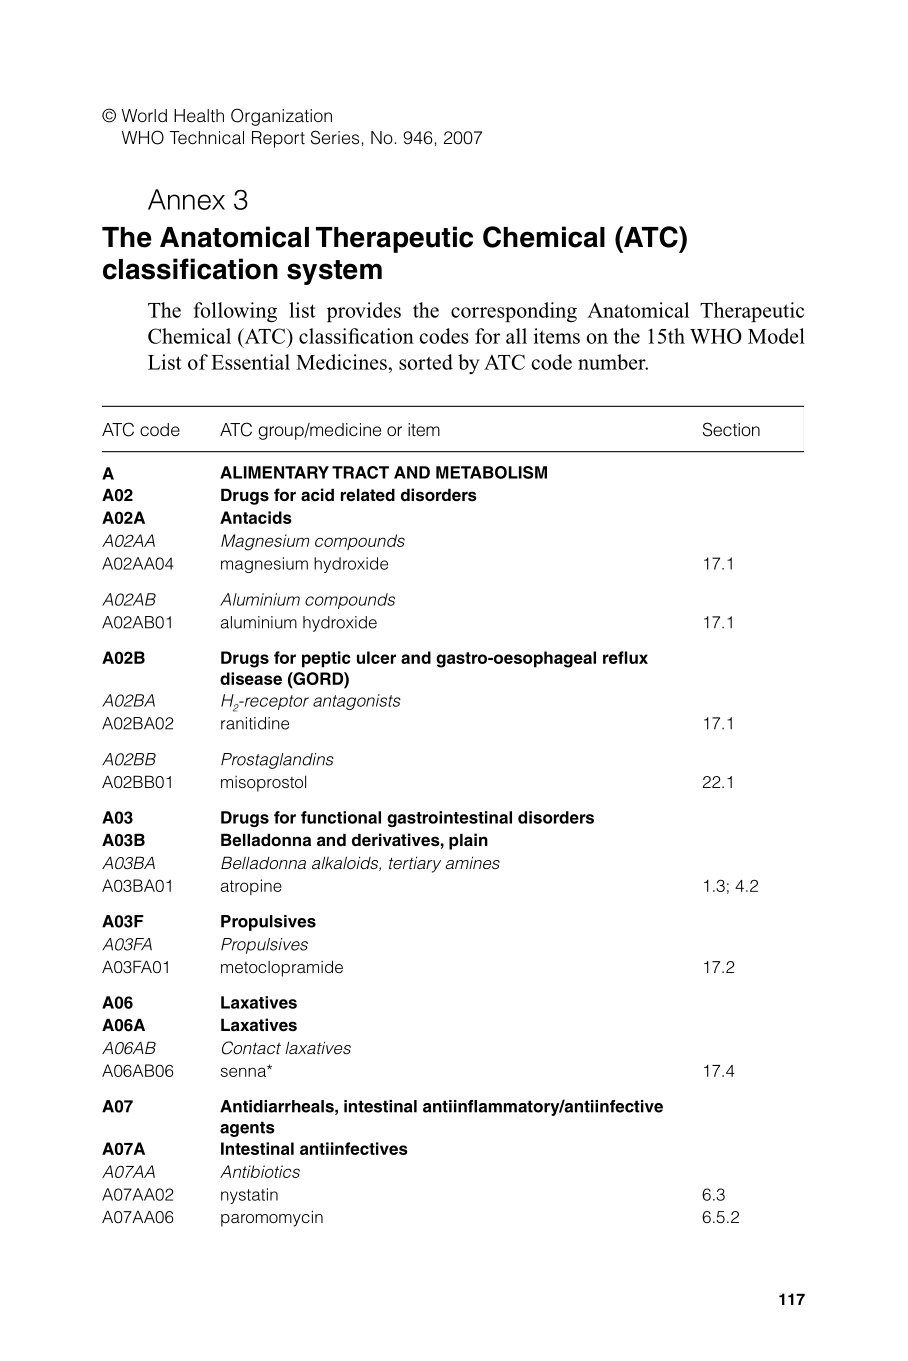partial_lined: (100, 404, 803, 1233)
